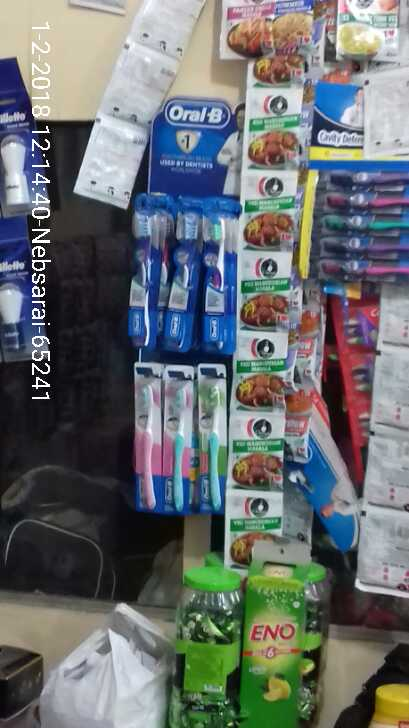oralb: (133, 194, 160, 353), (133, 380, 160, 511), (207, 379, 231, 516), (206, 218, 231, 347), (169, 207, 191, 353), (170, 386, 188, 515)
